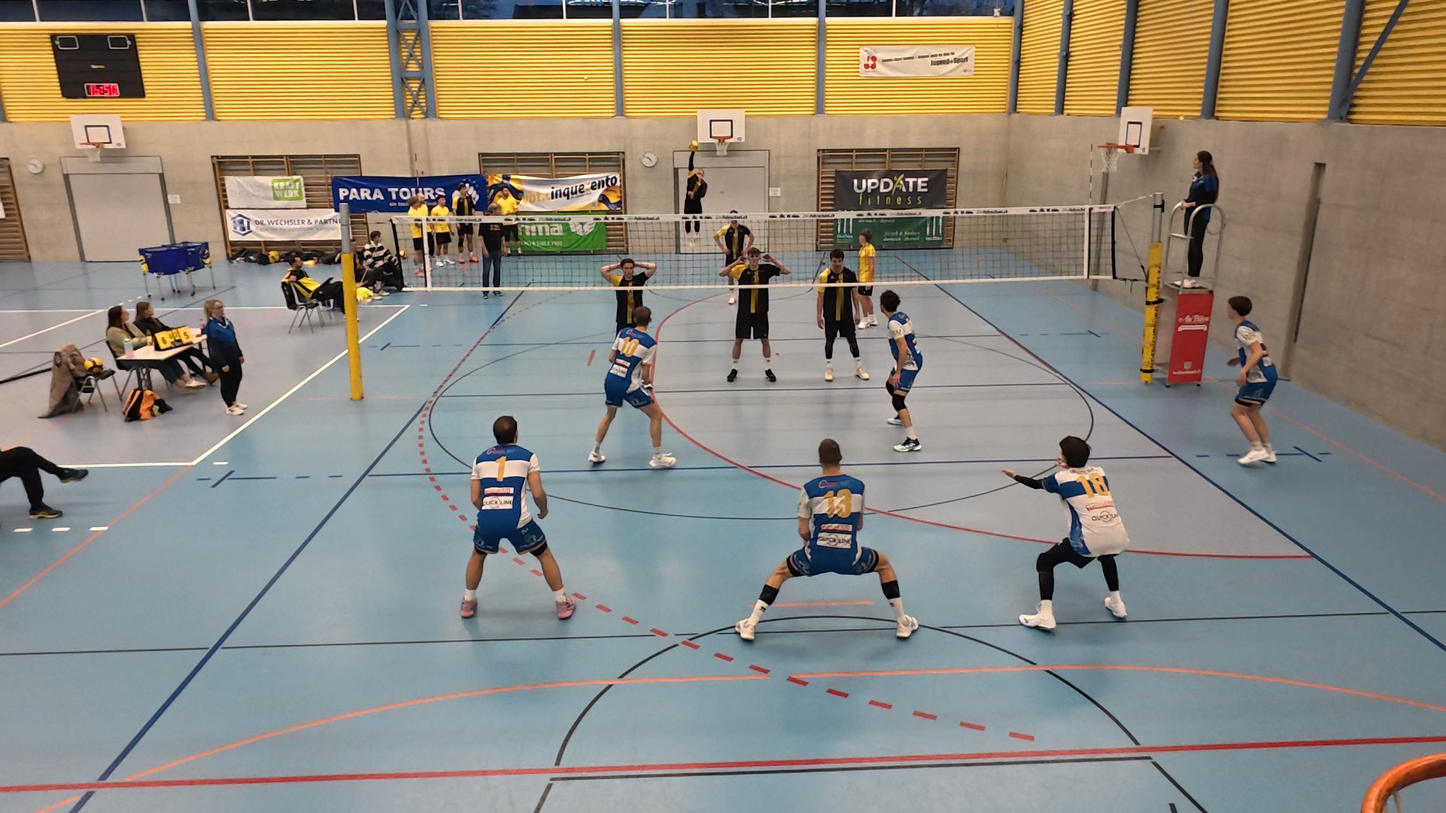battuta: (675, 148, 711, 266)
